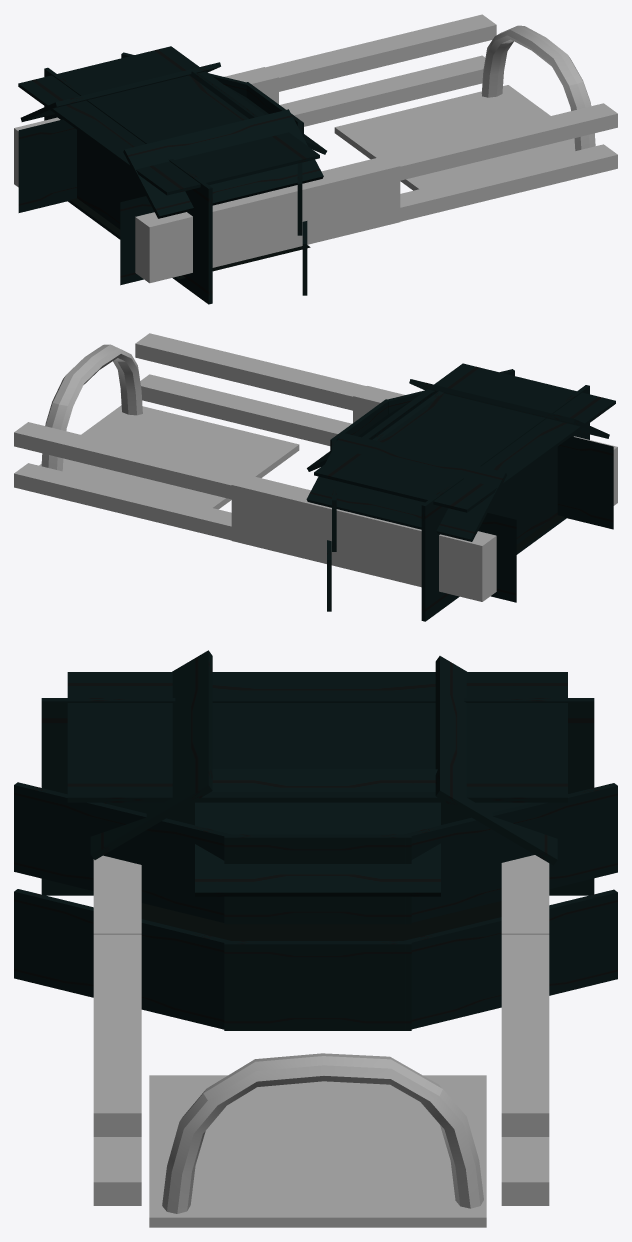
The model's file is Ship_Clean1.fbx.
3 renders of one model, top to bottom at view 1: azimuth 30°, elevation 25°; view 2: azimuth 150°, elevation 25°; view 3: azimuth 270°, elevation 25°, orthographic. The views are drawn at different scales.
Visible parts, largest first — view 1: Ship:Cube_4_1, Ship:Arm_Right, pCube1, Ship:Cube_9_, Ship:Cube_7_, Ship:Cube_1_, Ship:Cube_4_, Ship:Cube_5_, Ship:Cube_2_, pPlane8, pCylinder1, pPlane10 (+7 smaller); view 2: Ship:Cube_4_1, Ship:Arm_Left, pCube1, Ship:Cube_8_, Ship:Cube_7_, Ship:Cube_1_, Ship:Cube_4_, Ship:Cube_2_, Ship:Cube_5_, pPlane10, pCylinder1, pPlane8 (+6 smaller); view 3: Ship:Cube_4_1, pCube1, Ship:Cube_3_, Ship:Cube, Ship:Cube_1_1, Cube_1_1, Ship:Cube_2_1, Cube_2_1, pCylinder1, Cube, Ship:Cube_4_, Ship:Cube_1_ (+9 smaller).
Boxes of the visible parts, x1,y1,x2,y2 form: Ship:Cube_4_1: (18, 46, 319, 195); Ship:Arm_Right: (135, 155, 400, 283); pCube1: (334, 85, 575, 190); Ship:Cube_9_: (123, 109, 323, 218); Ship:Cube_7_: (44, 67, 212, 304); Ship:Cube_1_: (252, 14, 496, 94); Ship:Cube_4_: (367, 103, 617, 186); Ship:Cube_5_: (395, 144, 617, 222); Ship:Cube_2_: (280, 55, 485, 126); pPlane8: (18, 119, 76, 212); pCylinder1: (481, 25, 595, 150); pPlane10: (120, 196, 154, 285); Ship:Cube_4_1: (314, 363, 615, 512); Ship:Arm_Left: (231, 474, 496, 601); pCube1: (39, 405, 299, 509); Ship:Cube_8_: (306, 432, 506, 541); Ship:Cube_7_: (421, 385, 589, 621); Ship:Cube_1_: (14, 422, 264, 507); Ship:Cube_4_: (135, 333, 370, 413); Ship:Cube_2_: (14, 463, 262, 546); Ship:Cube_5_: (140, 374, 351, 445); pPlane10: (557, 436, 613, 529); pCylinder1: (41, 344, 142, 471); pPlane8: (478, 513, 516, 602); Ship:Cube_4_1: (67, 672, 567, 802); pCube1: (149, 1075, 486, 1227); Ship:Cube_3_: (195, 769, 440, 896); Ship:Cube: (224, 941, 411, 1030); Ship:Cube_1_1: (14, 889, 230, 1029); Cube_1_1: (14, 782, 230, 922); Ship:Cube_2_1: (401, 889, 617, 1030); Cube_2_1: (402, 783, 617, 923); pCylinder1: (162, 1053, 483, 1213); Cube: (224, 834, 411, 924); Ship:Cube_4_: (93, 934, 141, 1136); Ship:Cube_1_: (501, 934, 549, 1136).
Bounding box in the file's own units: 19.87 × 5.2 × 12.6.
